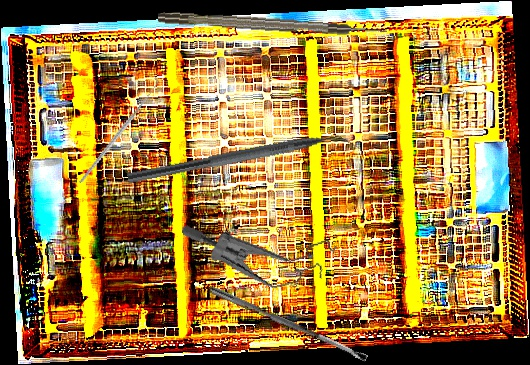Chopper: (126, 123, 362, 200)
Hook Surgical: (52, 76, 184, 184), (157, 10, 388, 39)
Speculum: (180, 189, 345, 311)
Surgical Spoon: (206, 285, 369, 363)
